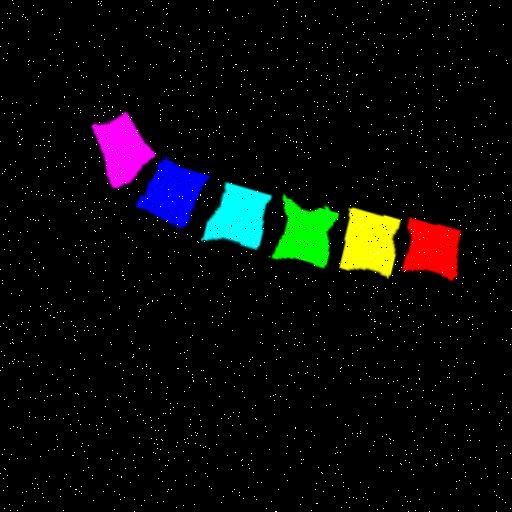L1: (401, 212, 460, 275)
L2: (338, 203, 399, 271)
L3: (270, 192, 338, 262)
L4: (202, 179, 271, 245)
L5: (137, 157, 208, 224)
S1: (92, 109, 152, 186)
